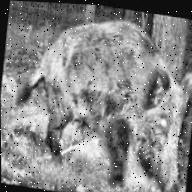boar: (13, 3, 192, 192)
